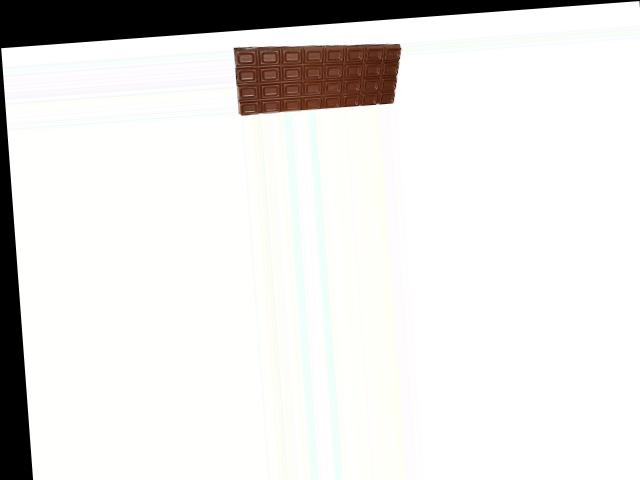chocolate: (232, 37, 407, 115)
